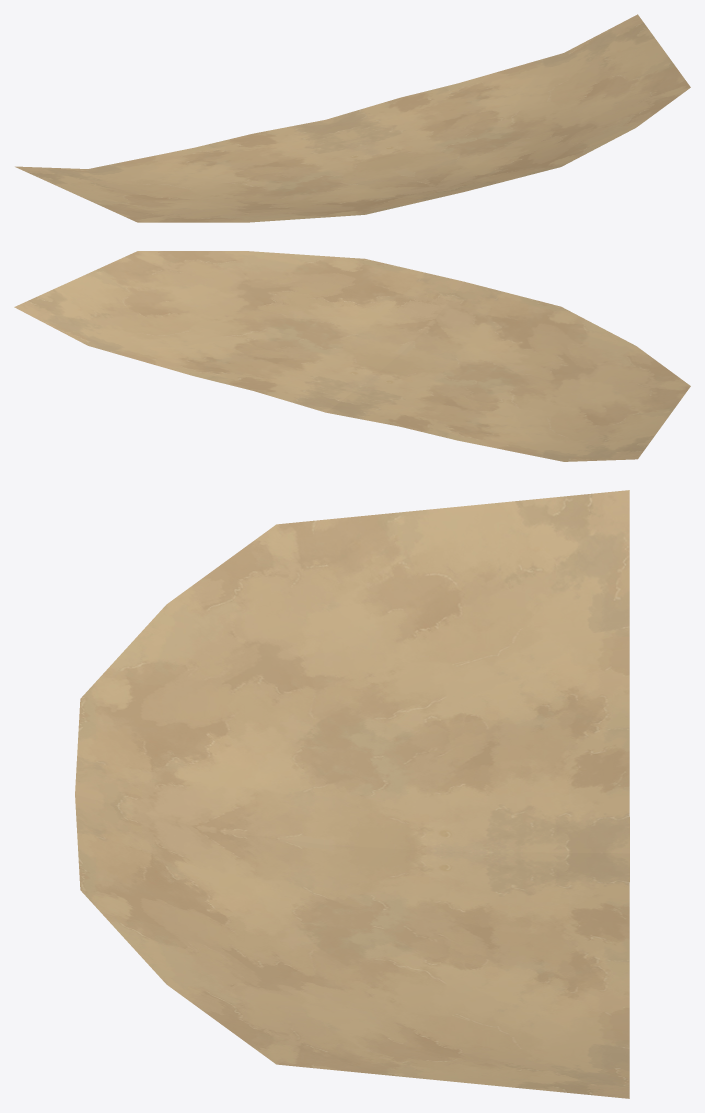
File: Spiaggia.FBX
3 renders of one model, top to bottom at view 1: azimuth 30°, elevation 25°; view 2: azimuth 150°, elevation 25°; view 3: azimuth 270°, elevation 25°, orthographic. The views are drawn at different scales.
Parts seen in each view (by area): view 1: Sphere002; view 2: Sphere002; view 3: Sphere002.
Boxes of the visible parts, x1=… form: Sphere002: x1=15, y1=14, x2=690, y2=222; Sphere002: x1=14, y1=251, x2=690, y2=461; Sphere002: x1=75, y1=490, x2=629, y2=1098.
Bounding box in the file's own units: 125 × 5.61 × 48.09.
1 material, 1 textured.
